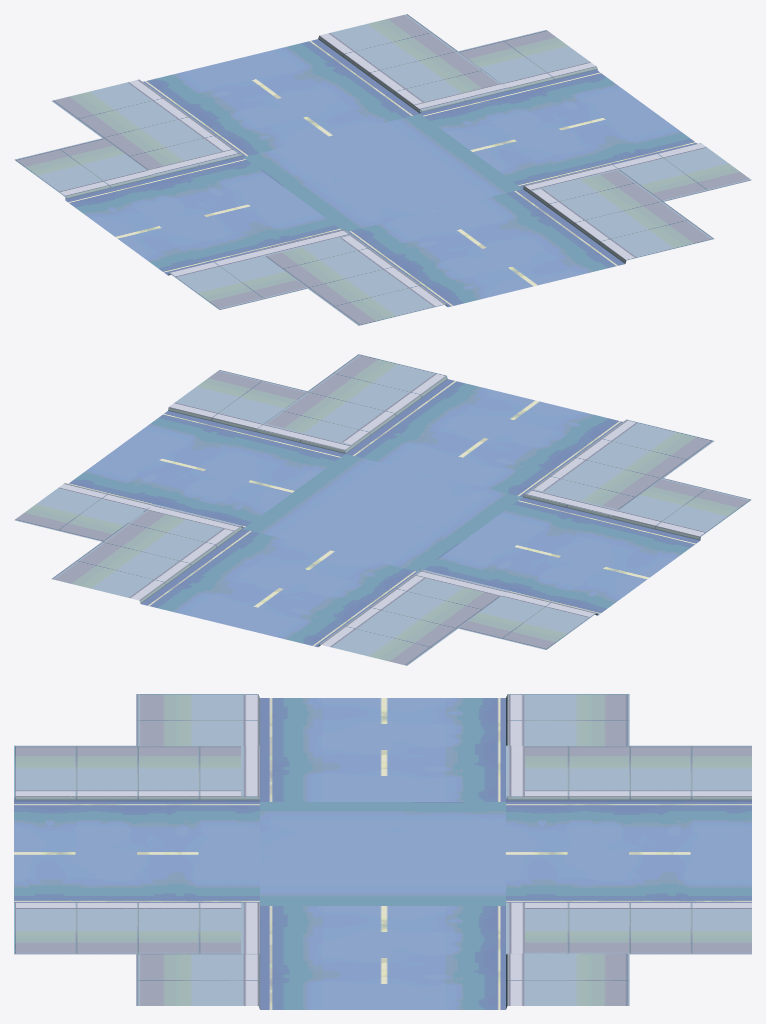
File: RoadFootpaths.Interesection.fbx
3 renders of one model, top to bottom at view 1: azimuth 30°, elevation 25°; view 2: azimuth 150°, elevation 25°; view 3: azimuth 270°, elevation 25°, orthographic. The views are drawn at different scales.
Parts seen in each view (by area): view 1: RoadFootpaths.Intersection; view 2: RoadFootpaths.Intersection; view 3: RoadFootpaths.Intersection.
Boxes of the visible parts, box(x1,y1,x2,y2) form: RoadFootpaths.Intersection: box(14, 14, 751, 325); RoadFootpaths.Intersection: box(14, 354, 751, 665); RoadFootpaths.Intersection: box(14, 694, 751, 1009).
Bounding box in the file's own units: 300 × 1.74 × 300.
Materials: 1 (1 with a texture image).
